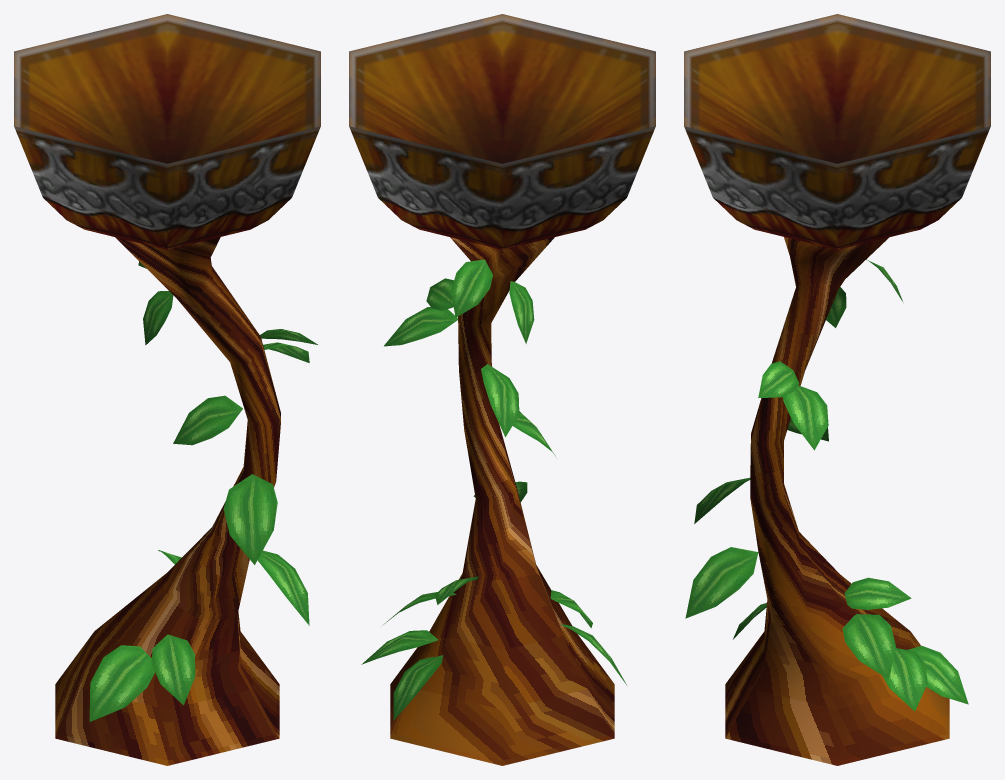
File: BRAZIERTALL.fbx
3 renders of one model, left to right at view 1: azimuth 30°, elevation 25°; view 2: azimuth 150°, elevation 25°; view 3: azimuth 270°, elevation 25°, orthographic.
Parts seen in each view (by area): view 1: BRAZIERTALL; view 2: BRAZIERTALL; view 3: BRAZIERTALL.
Part boxes in pixels (bbox=[...]): BRAZIERTALL: bbox=[14, 14, 320, 765]; BRAZIERTALL: bbox=[349, 14, 655, 765]; BRAZIERTALL: bbox=[684, 14, 990, 765].
Bounding box in the file's own units: 7303 × 14154 × 6324.
Materials: 3 (3 with a texture image).
